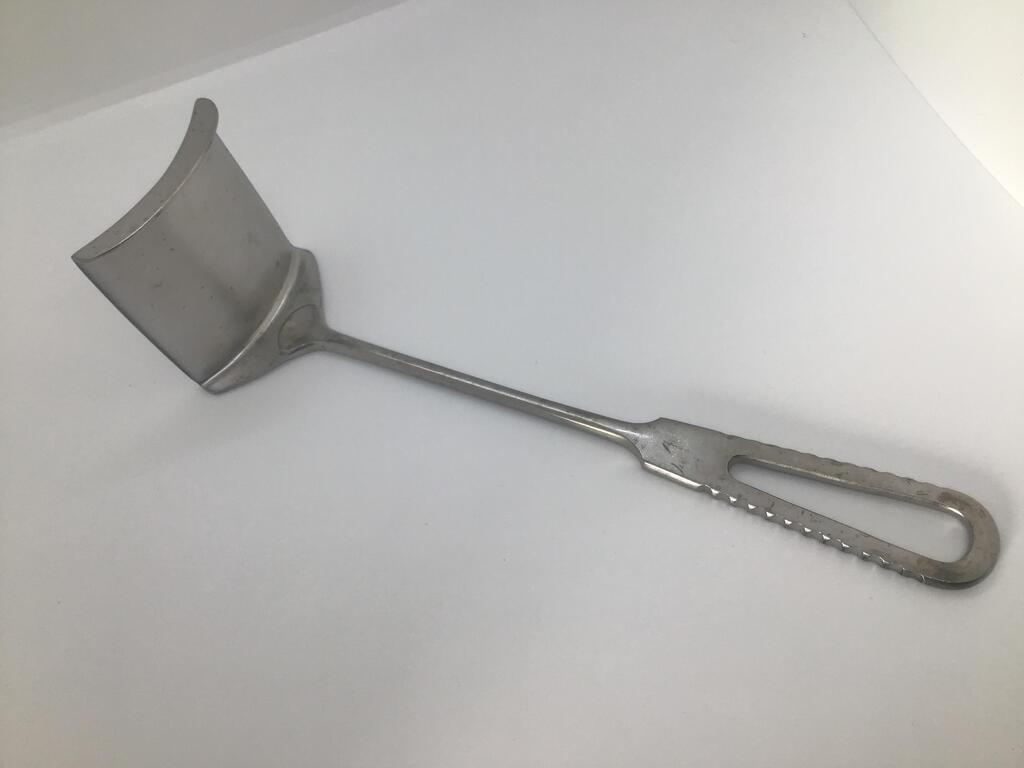Morris Retractor: (73, 86, 1004, 608)
